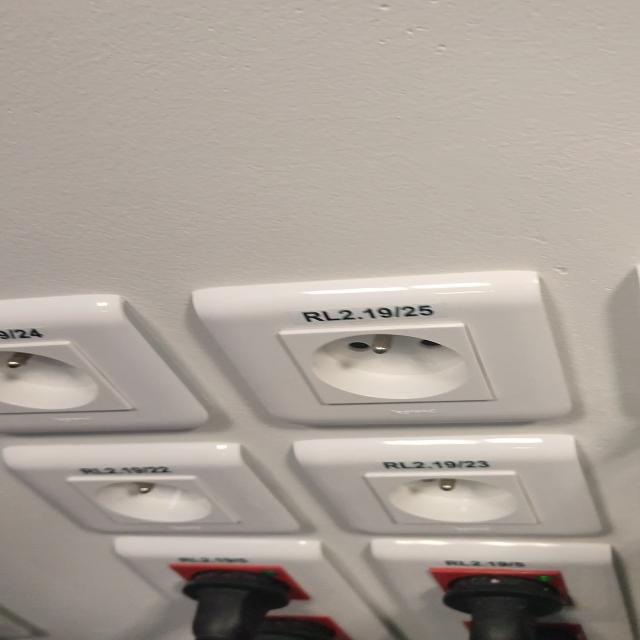house plug: (279, 323, 492, 405), (0, 341, 135, 414), (367, 471, 539, 524), (73, 474, 236, 526)
